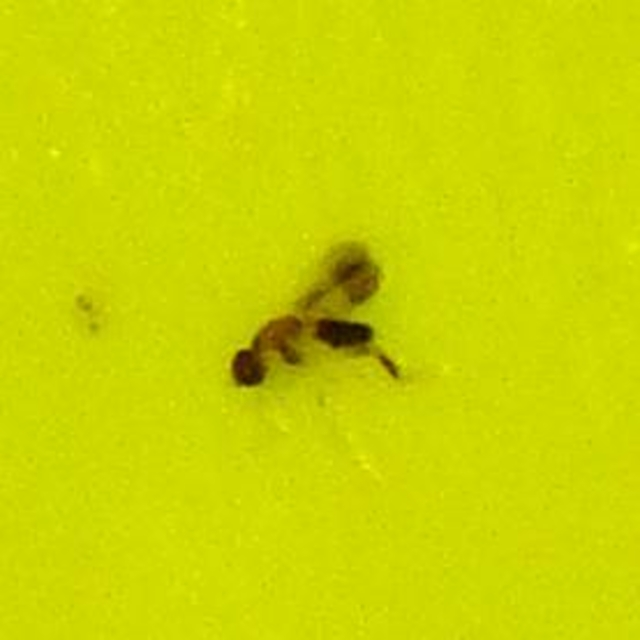Brachycera: (231, 236, 409, 404)
